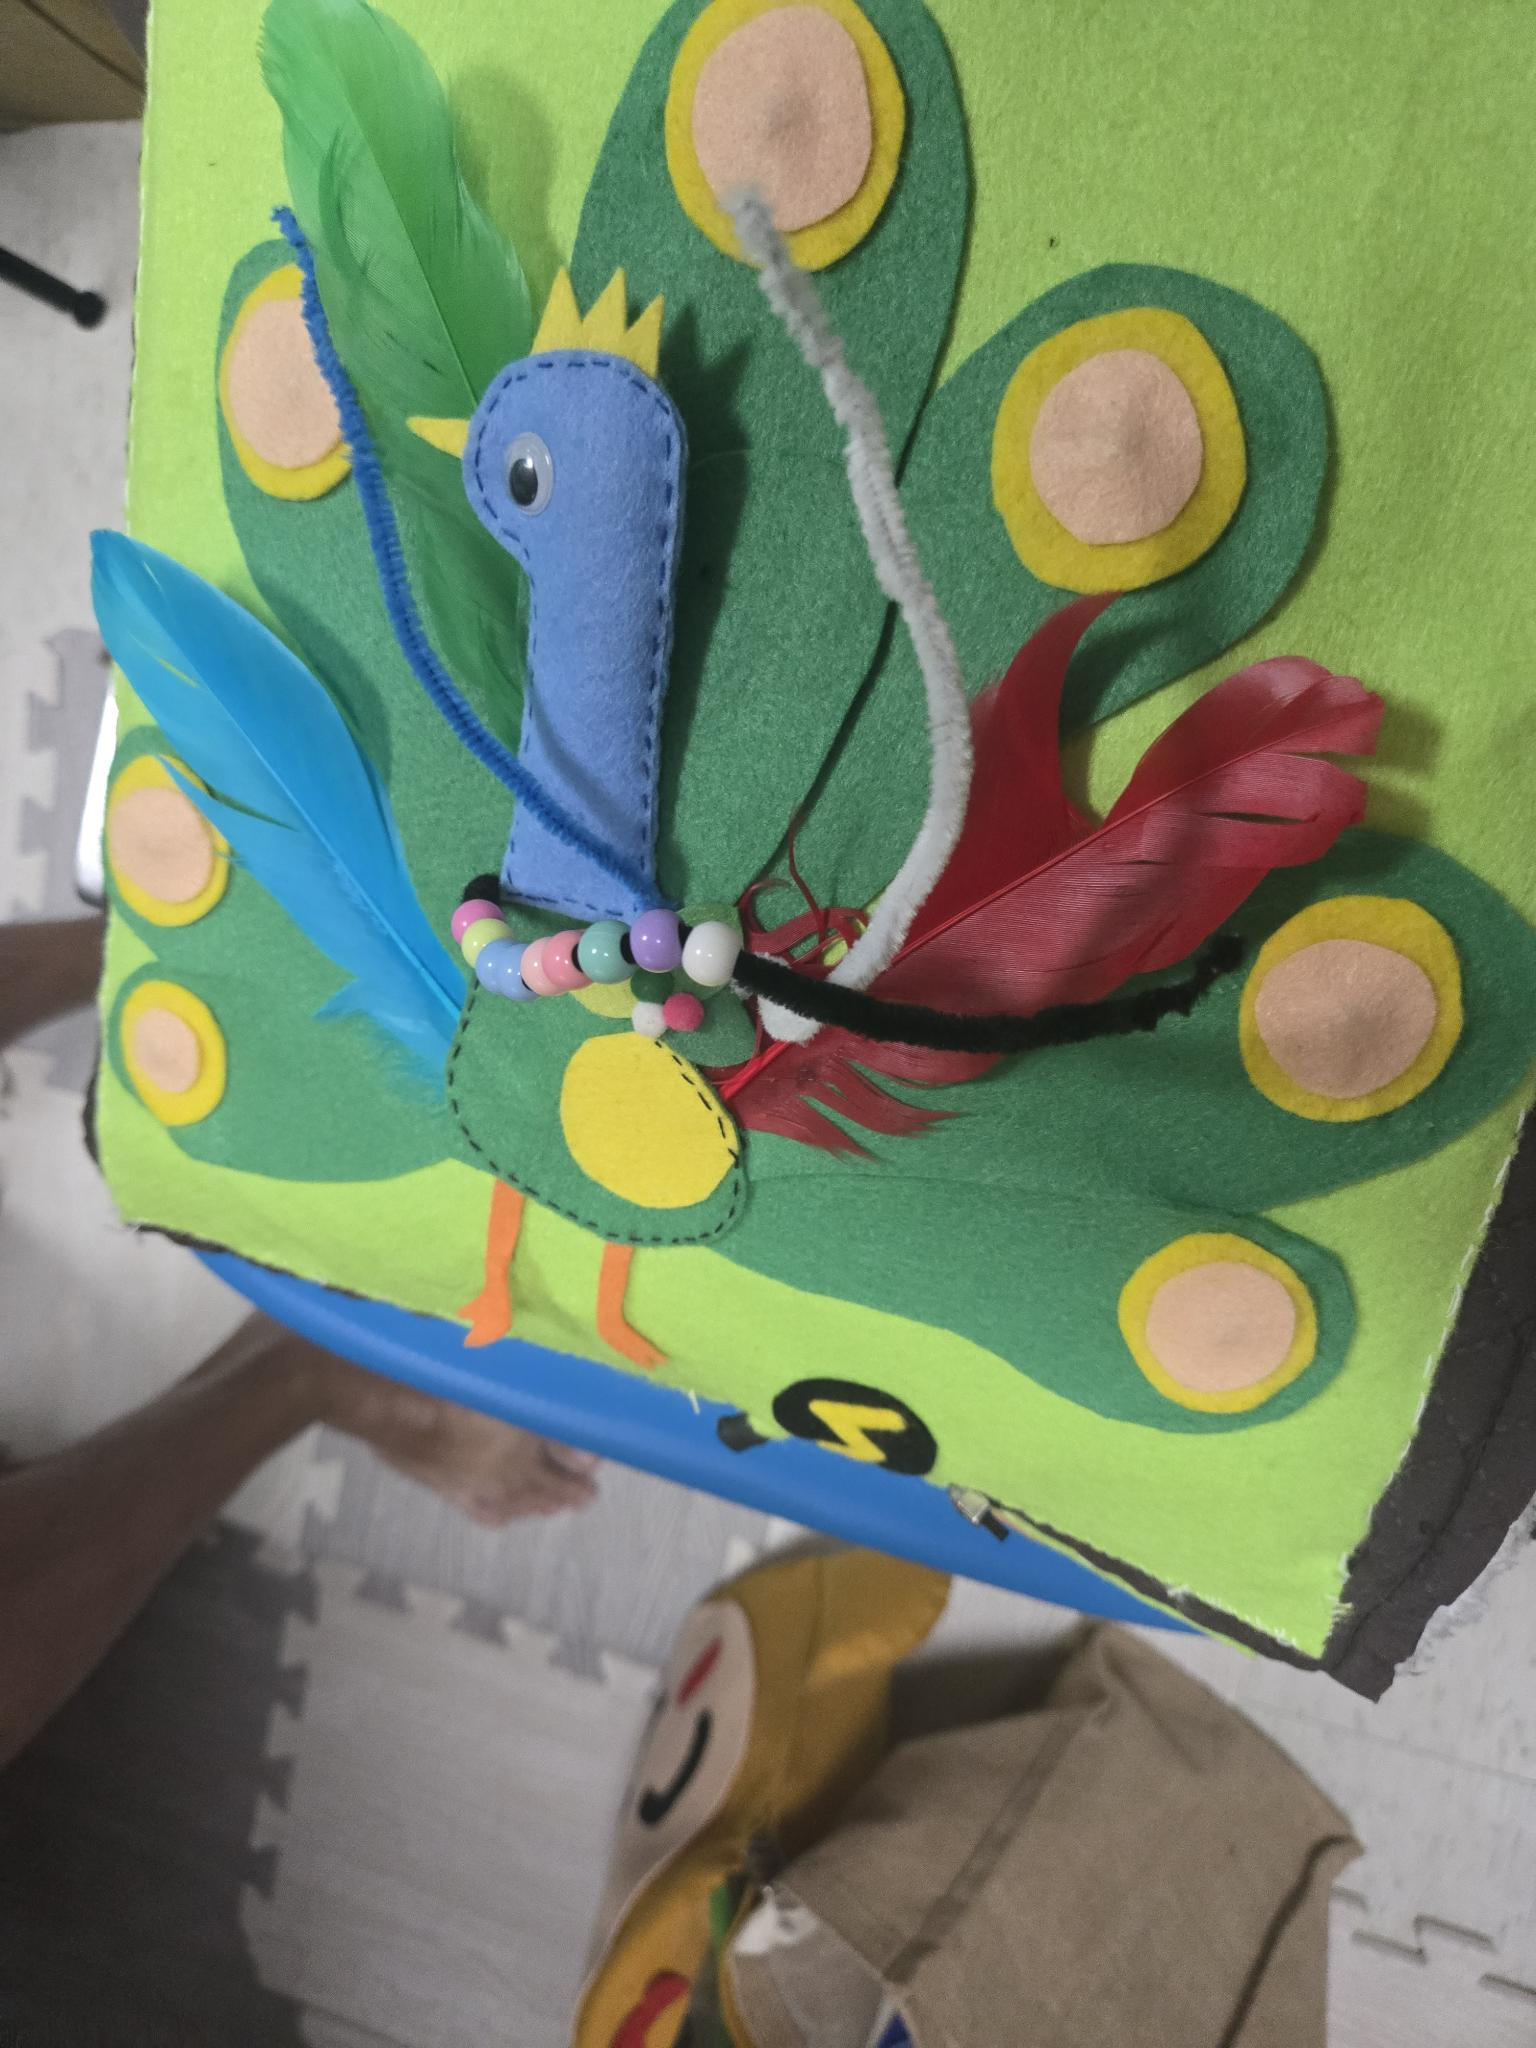bead: (634, 877, 681, 977), (687, 898, 728, 980), (436, 913, 502, 959), (544, 918, 579, 997), (471, 934, 518, 993), (589, 913, 624, 989), (436, 887, 494, 927), (508, 929, 539, 998)
